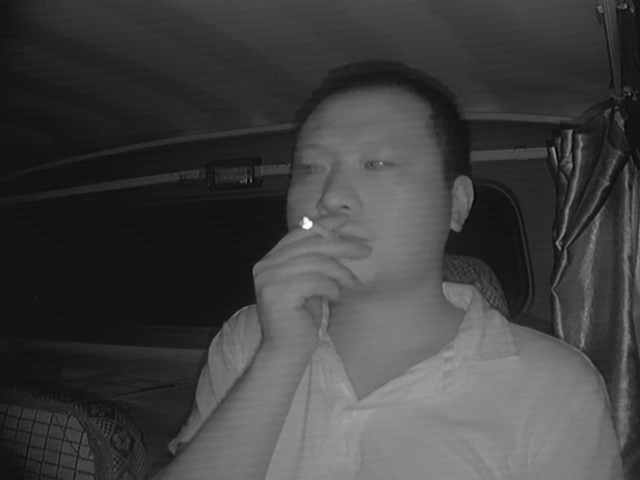hand: (261, 207, 360, 319)
